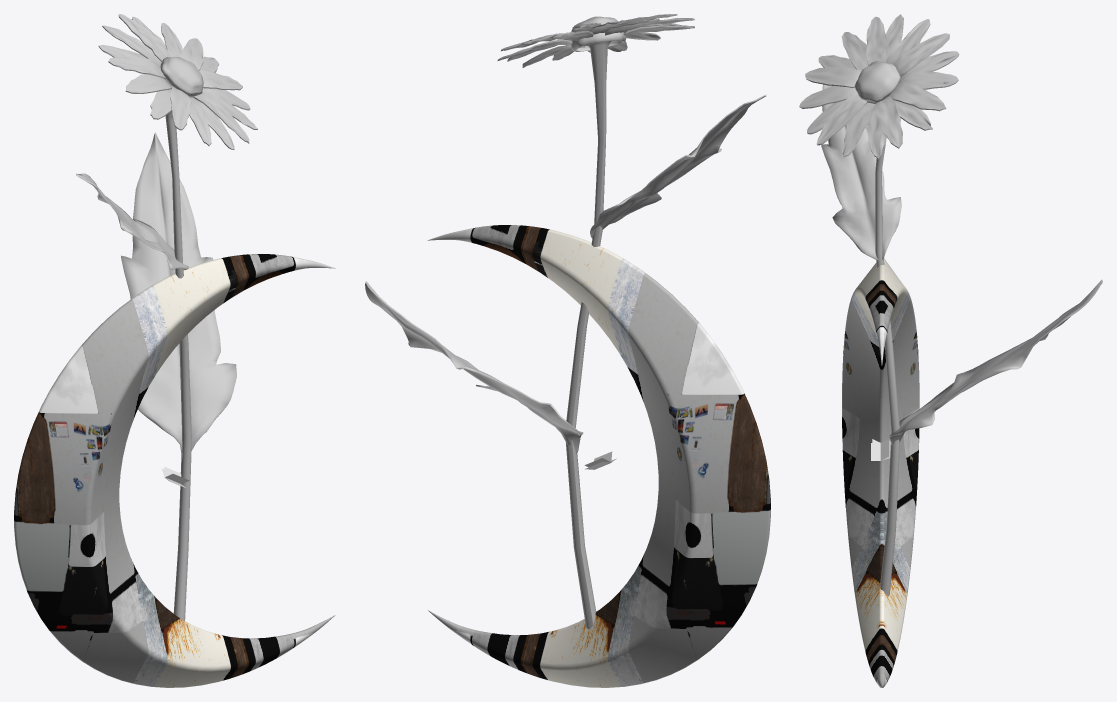
File: moon.fbx
3 renders of one model, left to right at view 1: azimuth 30°, elevation 25°; view 2: azimuth 150°, elevation 25°; view 3: azimuth 270°, elevation 25°, orthographic. The views are drawn at different scales.
Visible parts, largest first — view 1: Object_0.001, Object_0; view 2: Object_0.001, Object_0; view 3: Object_0, Object_0.001.
Boxes of the visible parts, box(x1,y1,x2,y2) form: Object_0.001: box(14, 254, 335, 687); Object_0: box(76, 14, 257, 621); Object_0.001: box(427, 225, 770, 687); Object_0: box(365, 14, 766, 629); Object_0: box(799, 14, 1102, 596); Object_0.001: box(842, 258, 919, 687).
Size of the model in its own units: 15796 by 30866 by 13952.
